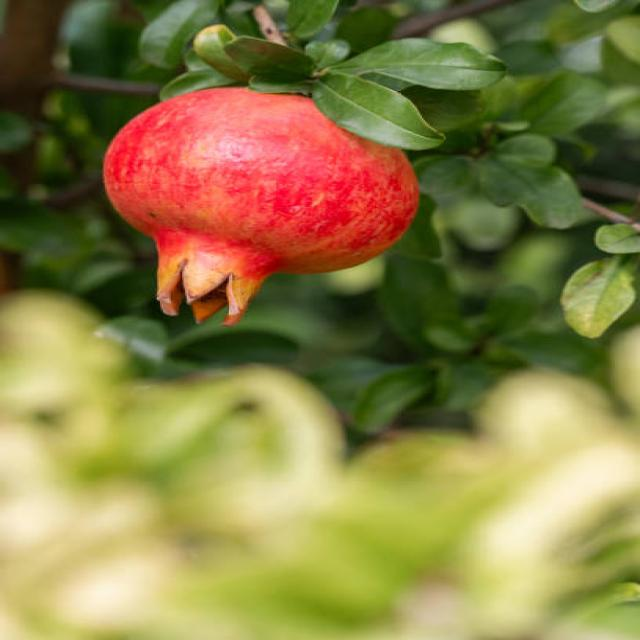Ripe: (94, 82, 424, 322)
